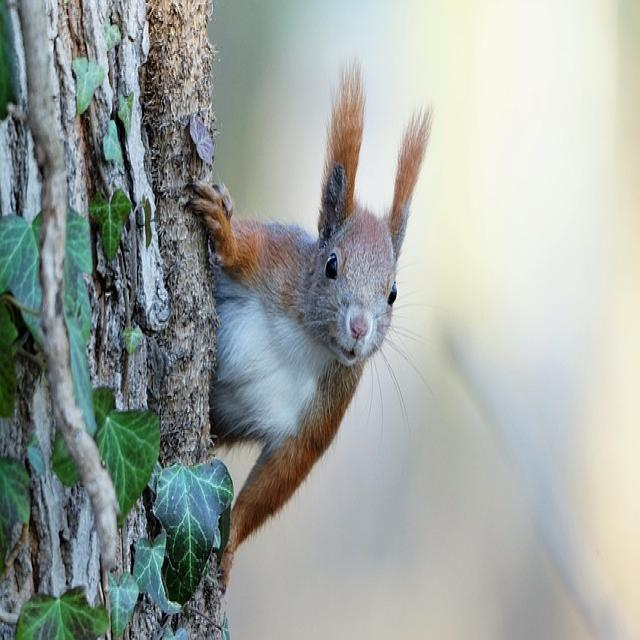Herbivorous: (194, 93, 430, 549)
